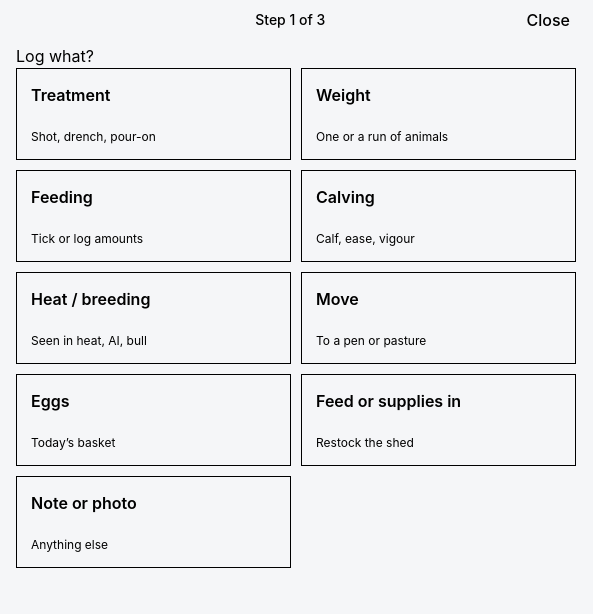
Test: the log flow › goes what → who → details → saved, one treatment per animal
Expected: the heading "Log what?" is shown, [16, 46, 94, 66]
Click the button "Treatment Shot, drench, pour-on" at (71,95), box [16, 68, 291, 160]
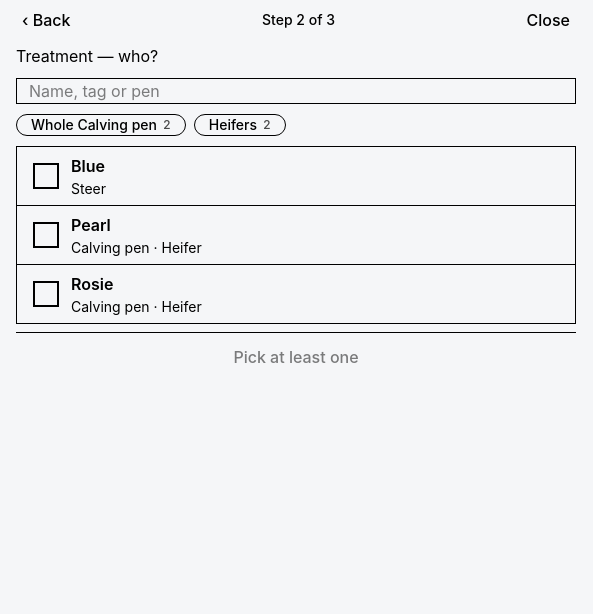
Now the text "Blue" is shown, box [71, 156, 105, 176]
Click the button "Whole Calving pen 2" at (101,125), box [16, 114, 186, 136]
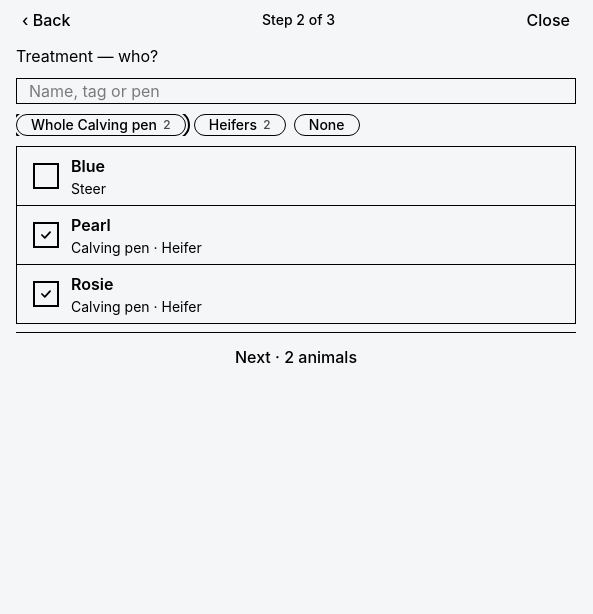
Click the button "Next · 2 animals" at (296,357), box [16, 349, 576, 365]
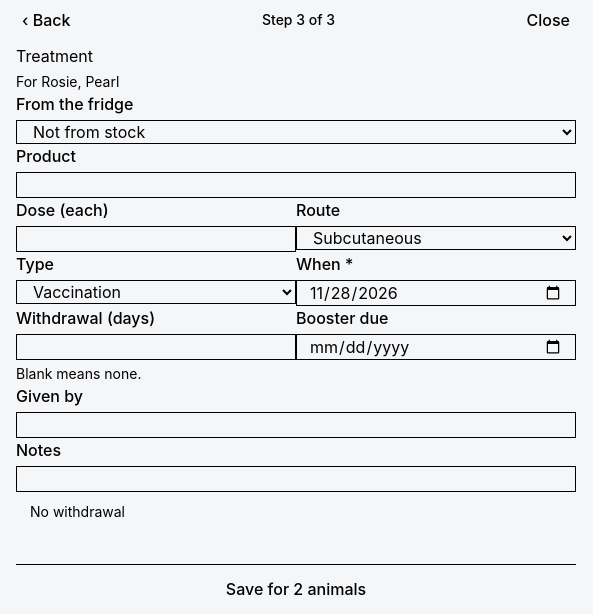
Now the text "For Rosie, Pearl" is shown, box [16, 73, 119, 90]
Click the button "Save for 2 animals" at (296,589), box [16, 581, 576, 597]
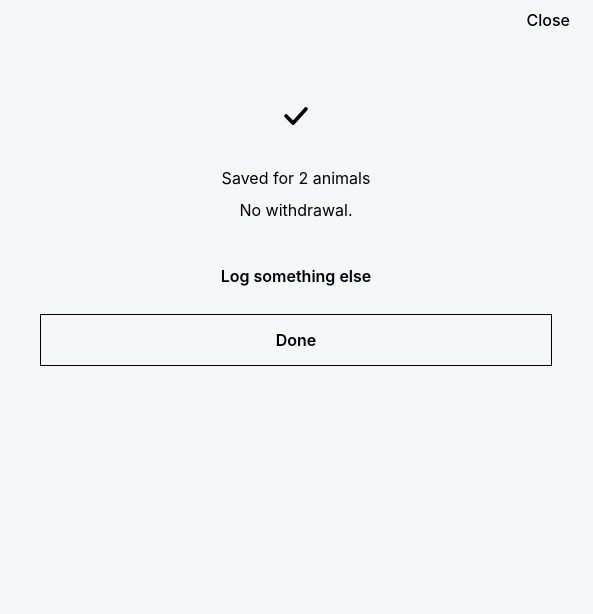
Now the heading "Saved for 2 animals" is shown, box [222, 166, 370, 190]
